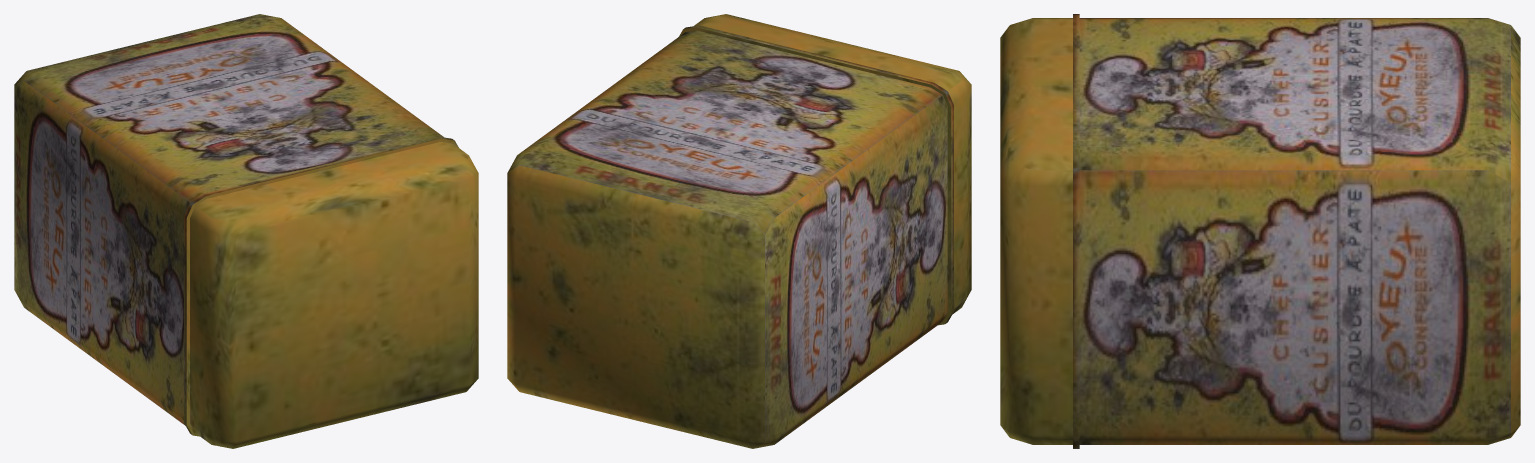
The model's file is prop_tinbox_rectangulartall.glb.
The picture shows the model from 3 angles, left to right: view 1: azimuth 30°, elevation 25°; view 2: azimuth 150°, elevation 25°; view 3: azimuth 270°, elevation 25°; orthographic projection. The views are drawn at different scales.
Bounding box in the file's own units: 5.33 × 4.49 × 7.23.
Materials: 1 (1 with a texture image).
